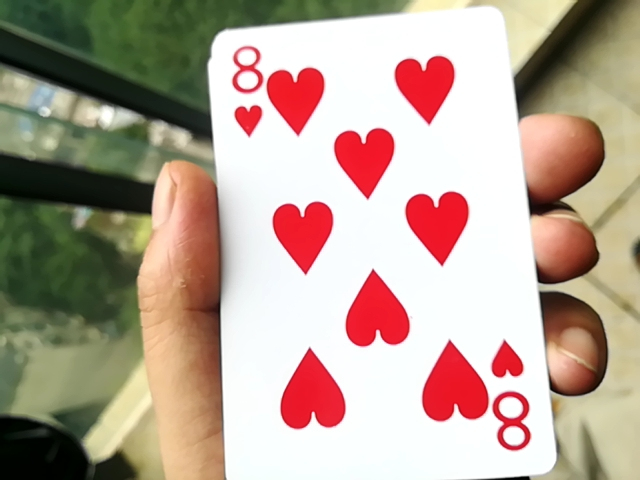hx 8: (207, 12, 554, 480)
